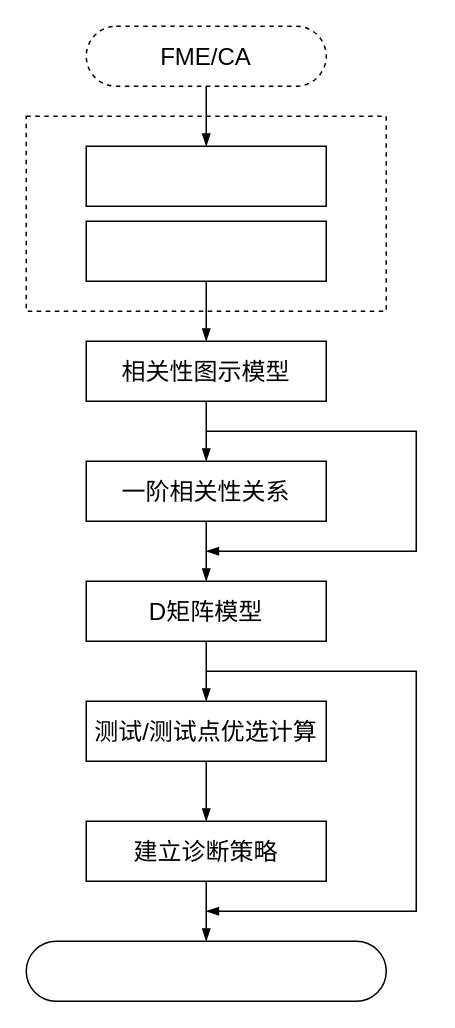
Image size: 455x1028. Some labels were removed from this diagram. The shapes that lost their labels are listed below. From the top down, each one's centre as x and y in pixels, then its label:
At (205,175): "产品/故障".
At (205,250): "可用测试/测试点".
At (205,970): "预计故障检测率、故障隔离率".
